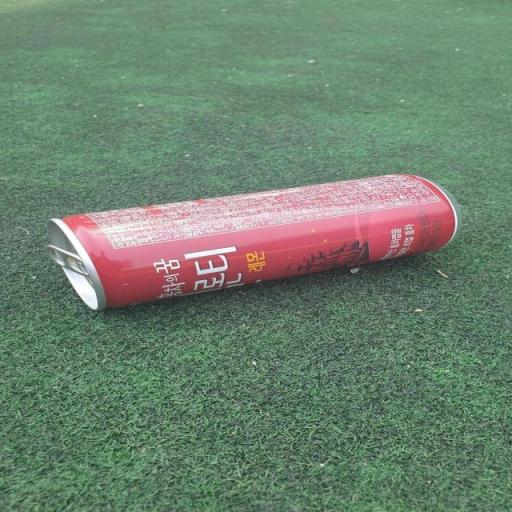metal: (0, 141, 474, 361)
